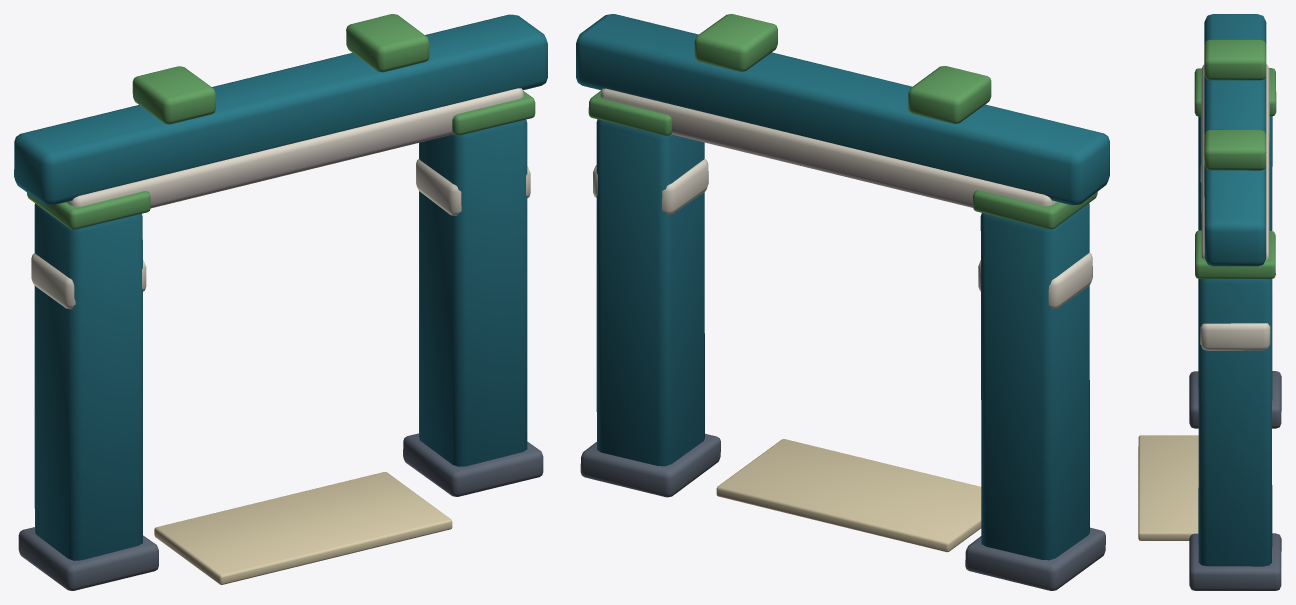
3 renders of one model, left to right at view 1: azimuth 30°, elevation 25°; view 2: azimuth 150°, elevation 25°; view 3: azimuth 270°, elevation 25°, orthographic. The views are drawn at different scales.
Visible parts, largest first — view 1: gate_539d4b18; view 2: gate_539d4b18; view 3: gate_539d4b18.
Boxes of the visible parts, x1,y1,x2,y2 form: gate_539d4b18: (14, 14, 547, 590); gate_539d4b18: (576, 14, 1109, 590); gate_539d4b18: (1138, 14, 1281, 590).
Size of the model in its own units: 5.22 by 4.55 by 1.48.
